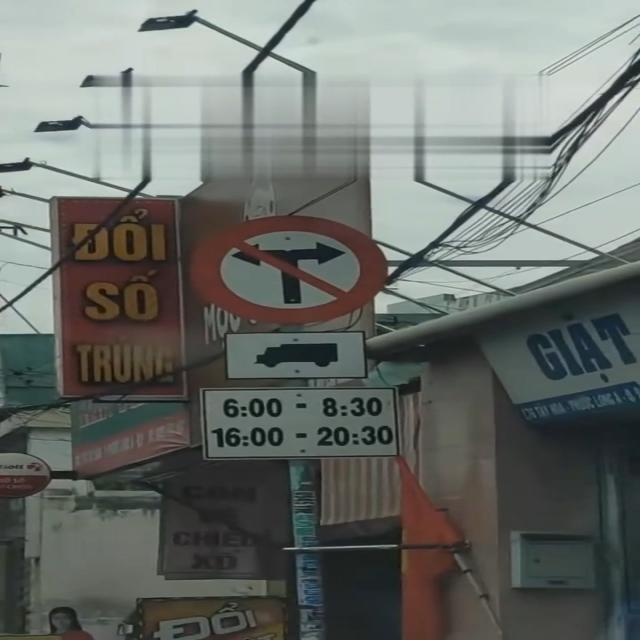137-cam-re-trai-va-re-phai: (194, 217, 390, 325)
